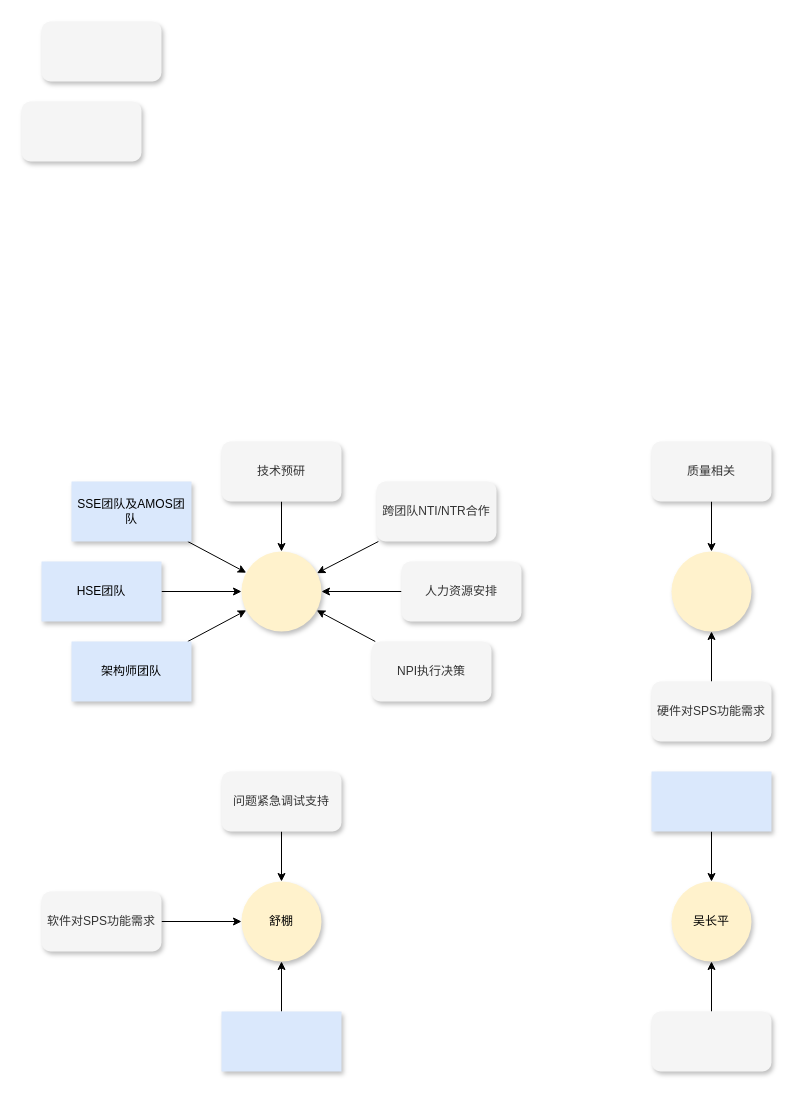
This 794x1095 diagram has some shape labels left out. The shapes that lost their labels are listed below. From the top down, each one's centre as x and y in pixels, then its label:
At point (282, 592): "丁圣阁".
At point (712, 592): "罗安".
At point (712, 802): "CSE团队".
At point (282, 1042): "PSE团队".
At point (712, 1042): "产品对SPS功能需求".
